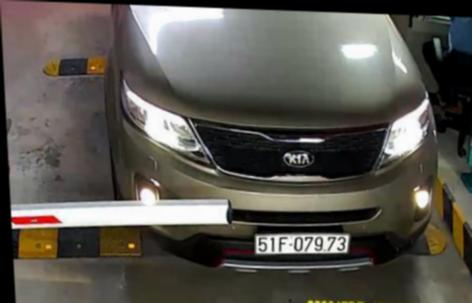License_Plate: (251, 228, 358, 259)
